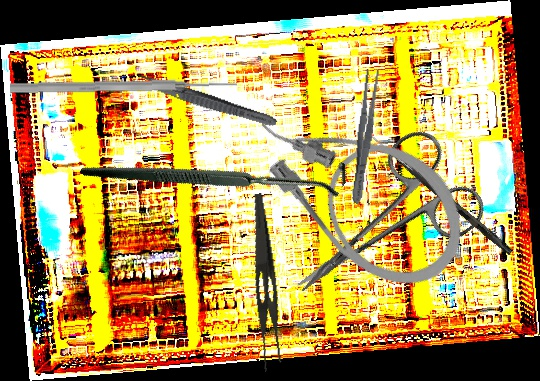Cannula: (233, 64, 489, 312)
Dressing Forceps: (234, 192, 291, 373), (129, 70, 279, 131), (347, 68, 382, 205)
Hook Surgical: (79, 49, 354, 293), (367, 133, 515, 256)
Iris Scissors: (262, 120, 493, 333)
Pusher: (9, 77, 238, 96)
